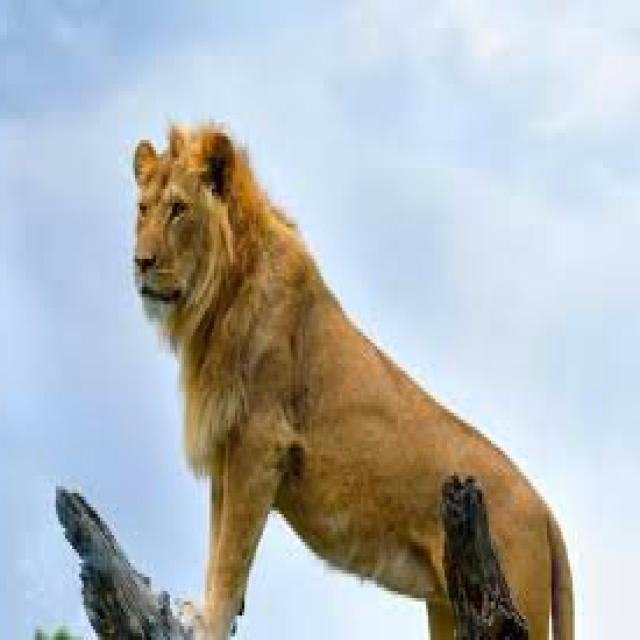lion: (135, 122, 575, 637)
